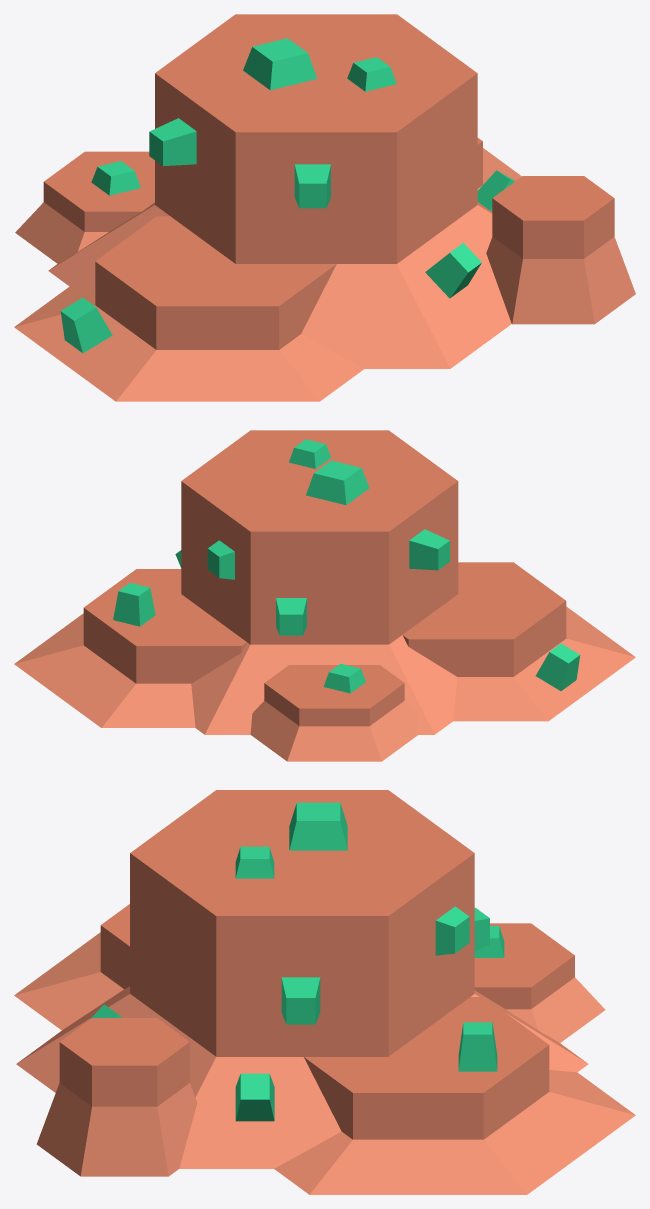
The model's file is k-rock-crystals.glb.
3 views of the same model, one above another, from view 1: azimuth 30°, elevation 25°; view 2: azimuth 150°, elevation 25°; view 3: azimuth 270°, elevation 25° (orthographic). The views are drawn at different scales.
Visible parts, largest first — view 1: rock_crystals; view 2: rock_crystals; view 3: rock_crystals.
Boxes of the visible parts, left/top/right/bottom form: rock_crystals: left=14, top=14, right=635, bottom=401; rock_crystals: left=14, top=430, right=635, bottom=761; rock_crystals: left=14, top=790, right=635, bottom=1194.
Size of the model in its own units: 0.8509 by 0.3375 by 0.8015.
